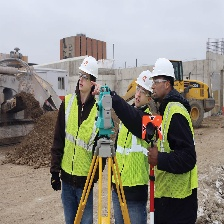helmet: (75, 52, 102, 79), (152, 58, 177, 82), (135, 66, 154, 91)
person: (148, 56, 200, 224), (54, 53, 103, 224), (112, 64, 153, 224)
vest: (155, 101, 196, 195), (64, 92, 99, 181), (115, 110, 148, 190)
